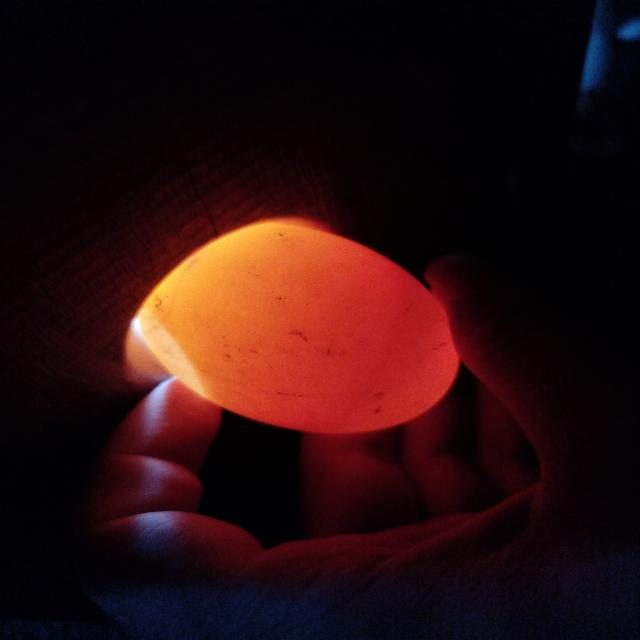Camara de Ar: (139, 310, 204, 394)
